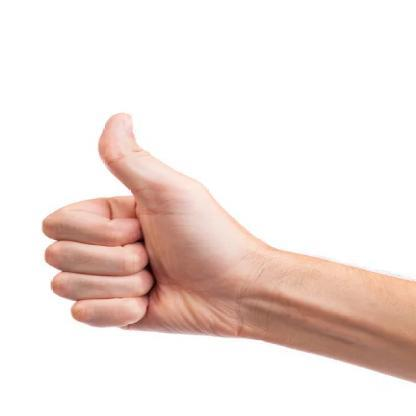thumb_up: (43, 109, 265, 347)
